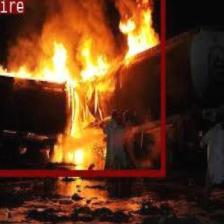fire: (0, 0, 164, 175)
